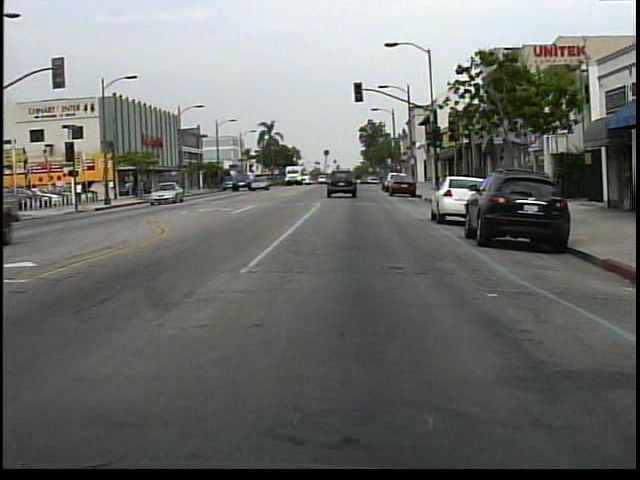person: (77, 180, 87, 207)
